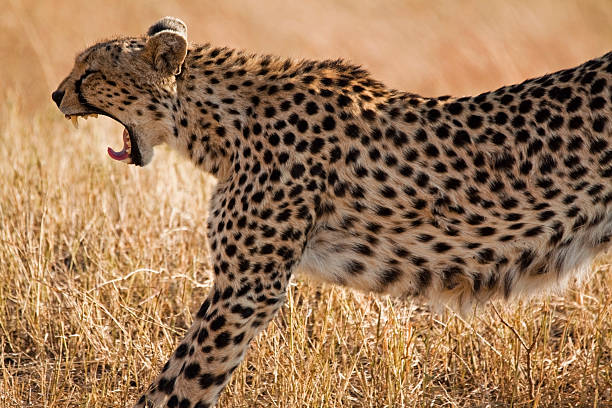cheetah: (28, 10, 197, 179)
